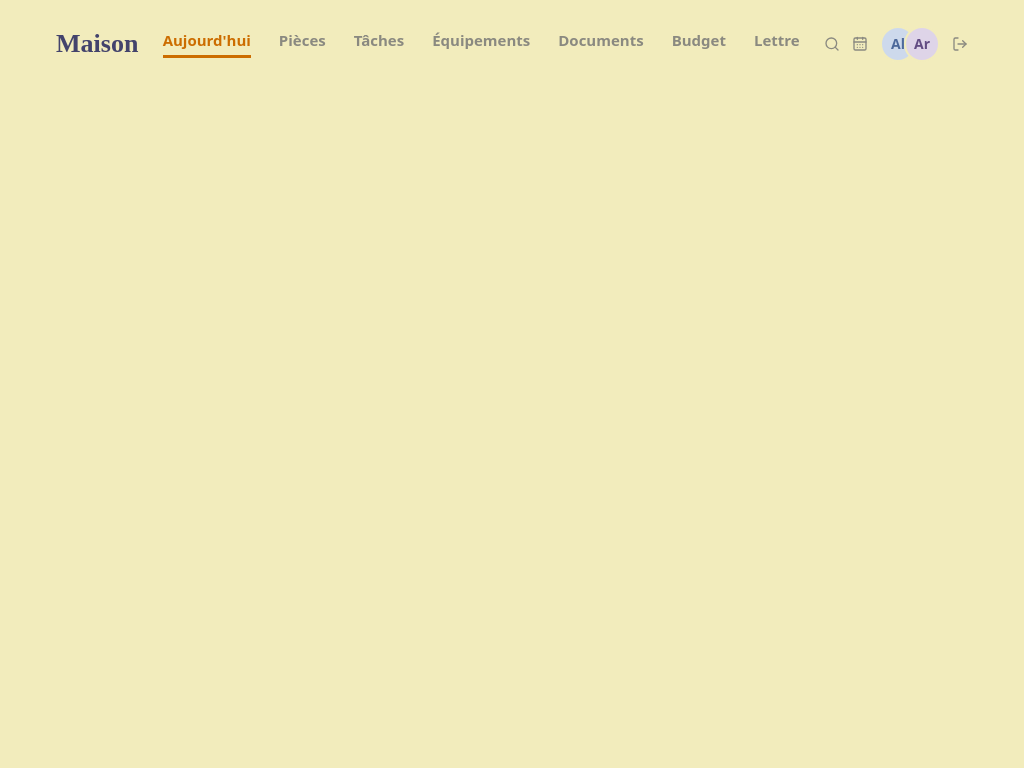
Test: la rotation demande confirmation puis remplace les URLs affichées
Click the button named "Mon calendrier iCal" at (860, 44), box [852, 36, 868, 52]
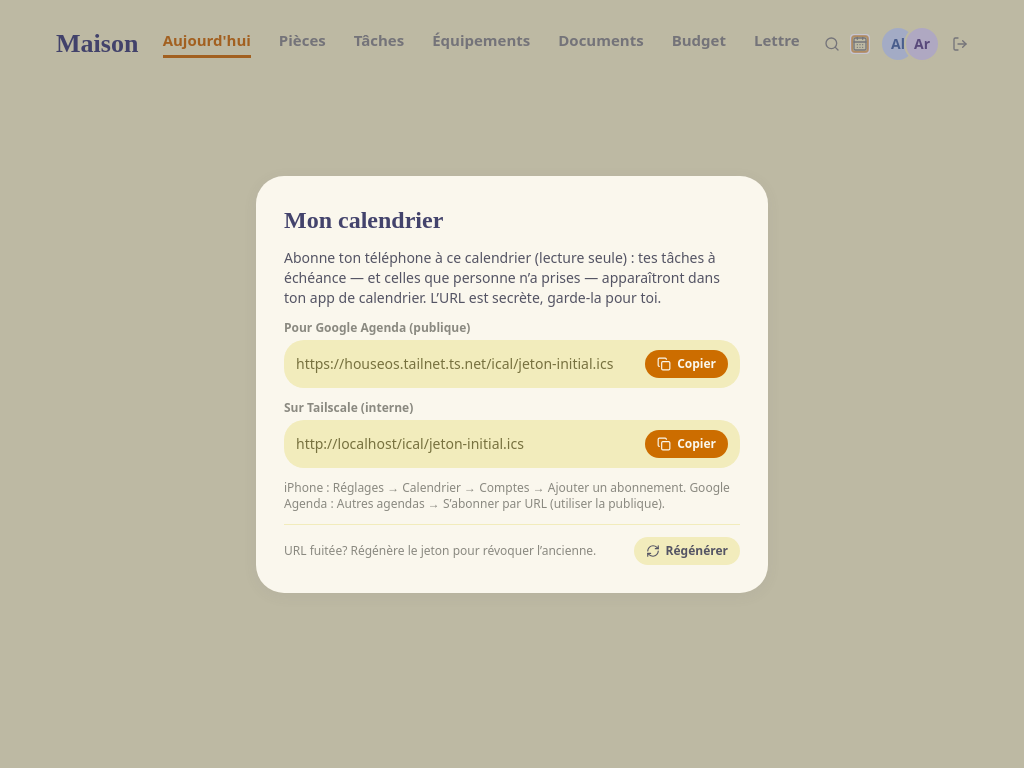
expect the text "https://houseos.tailnet.ts.net/ical/jeton-initial.ics" is shown: met, box [296, 354, 637, 374]
Click the button "Régénérer" at (687, 550), box [634, 536, 740, 564]
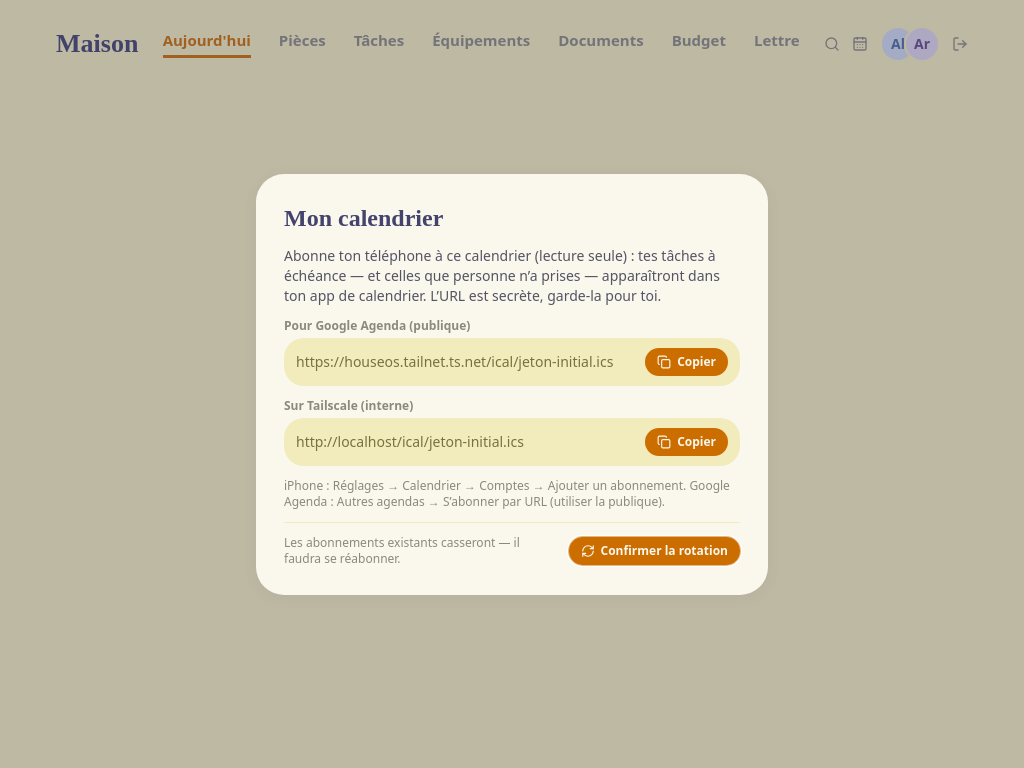
expect the text "https://houseos.tailnet.ts.net/ical/jeton-initial.ics" is shown: met, box [296, 352, 637, 372]
Click the button "Confirmer la rotation" at (654, 550), box [568, 536, 740, 564]
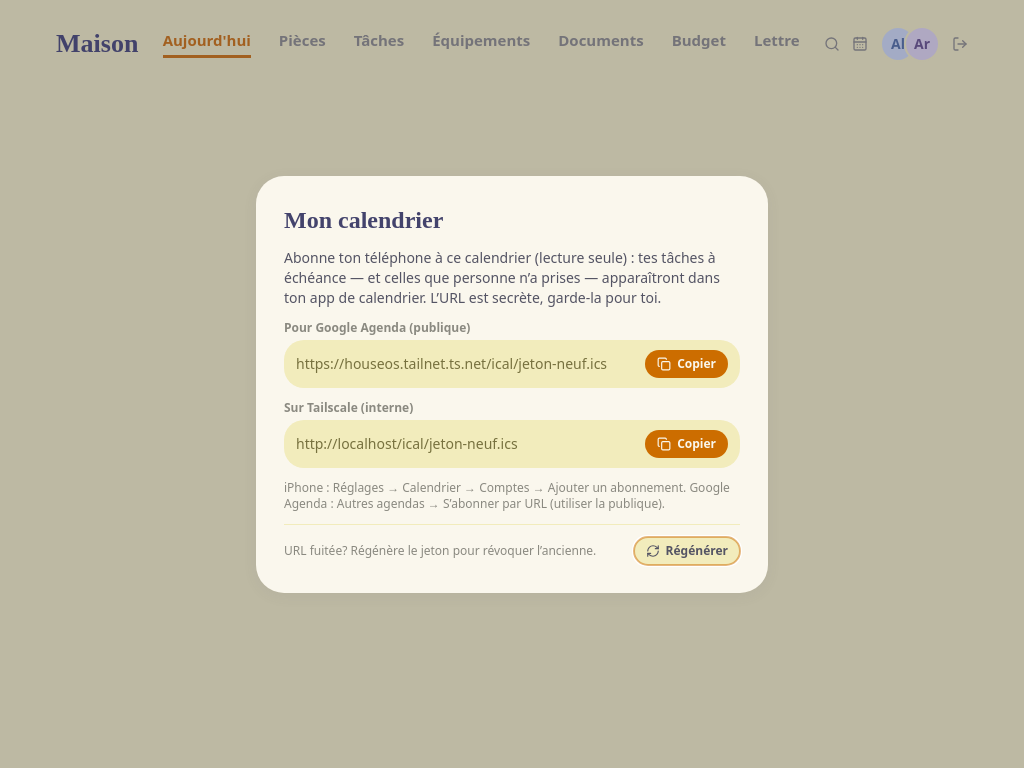
expect the text "https://houseos.tailnet.ts.net/ical/jeton-neuf.ics" is shown: met, box [296, 354, 637, 374]
expect the text "https://houseos.tailnet.ts.net/ical/jeton-initial.ics" is gone: met
